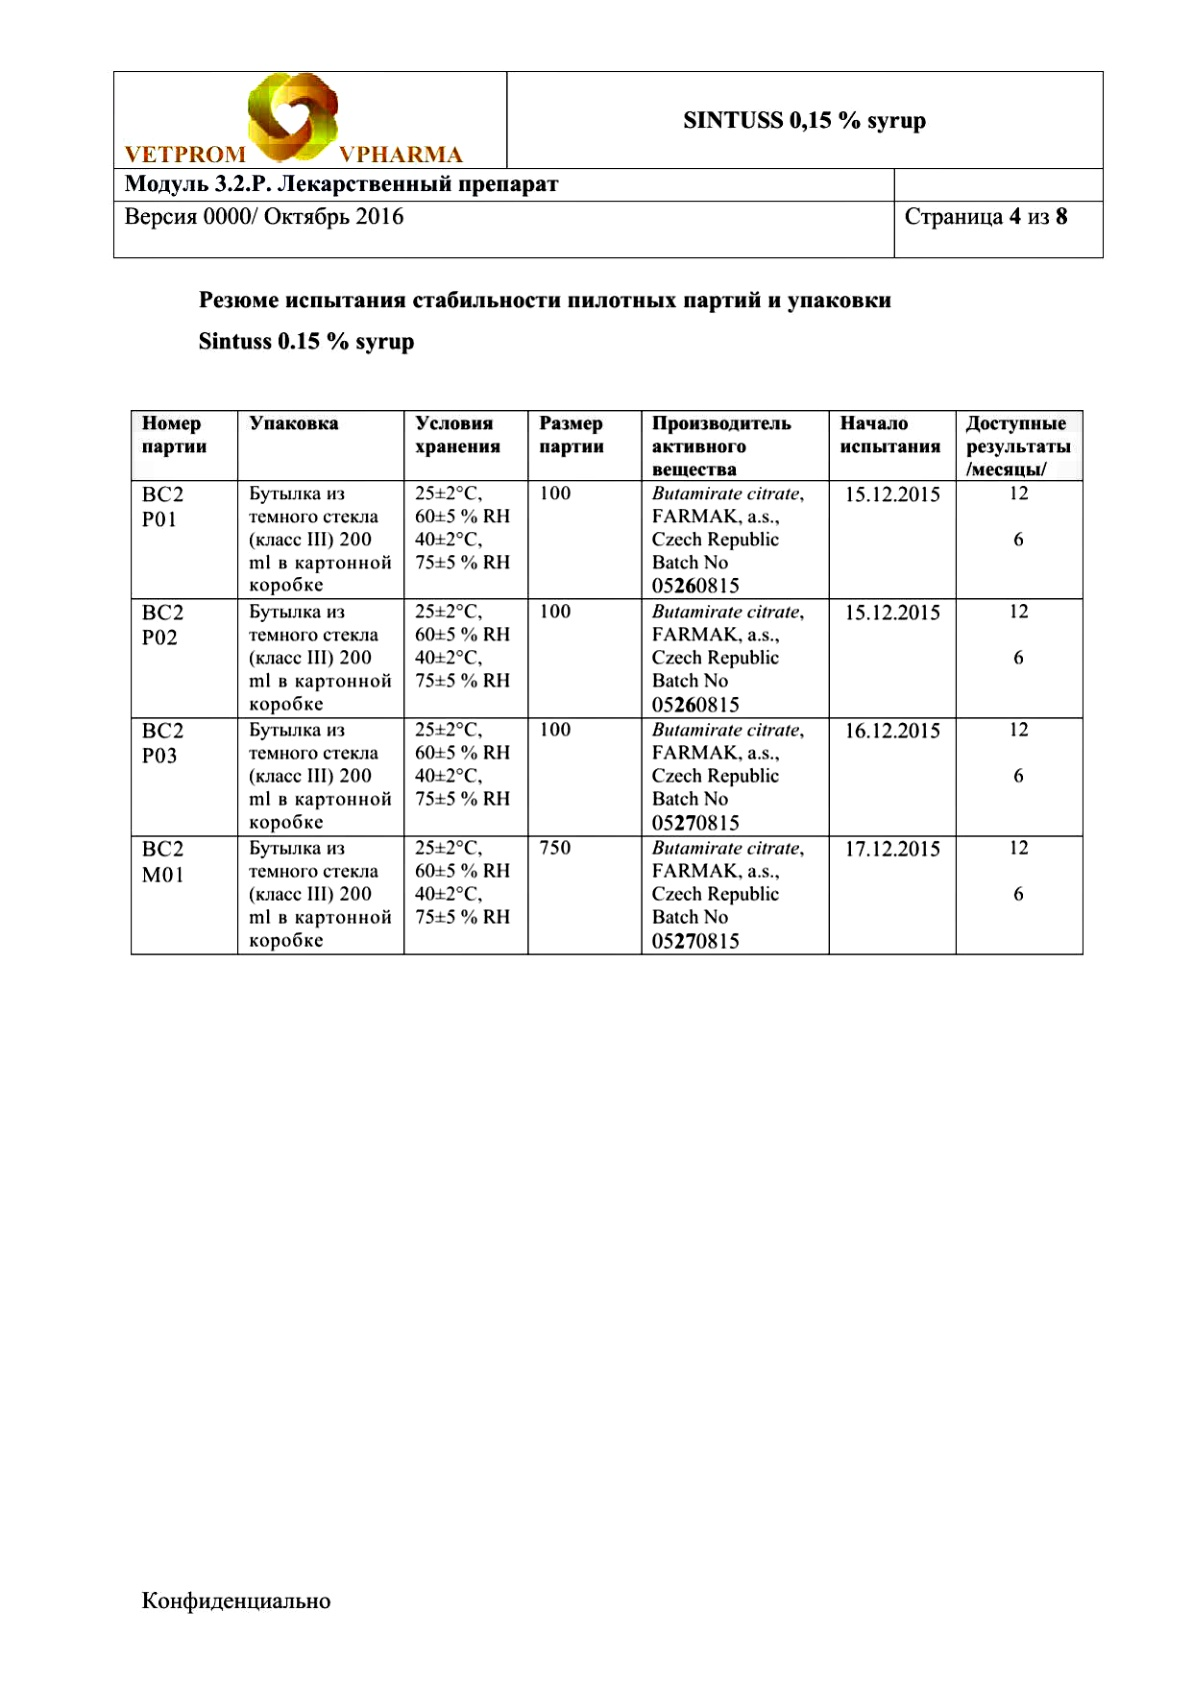full_lined: (129, 409, 1085, 957)
merged_cells: (111, 70, 1104, 260)
